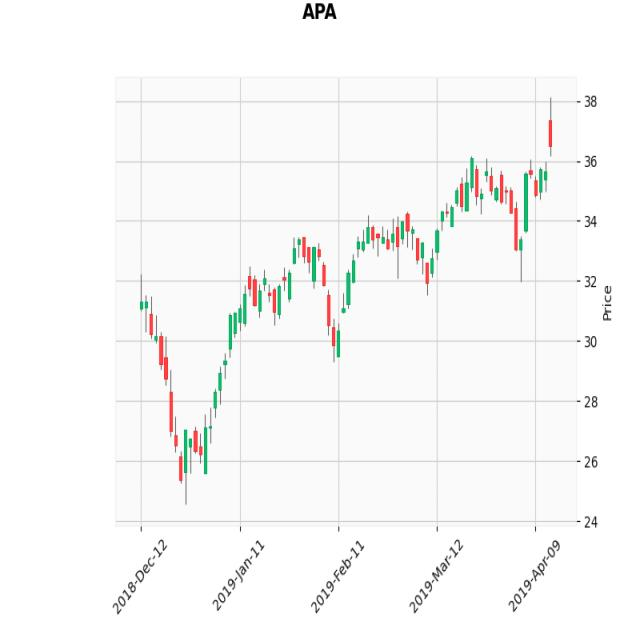Double-Bottom: (159, 375, 229, 497)
